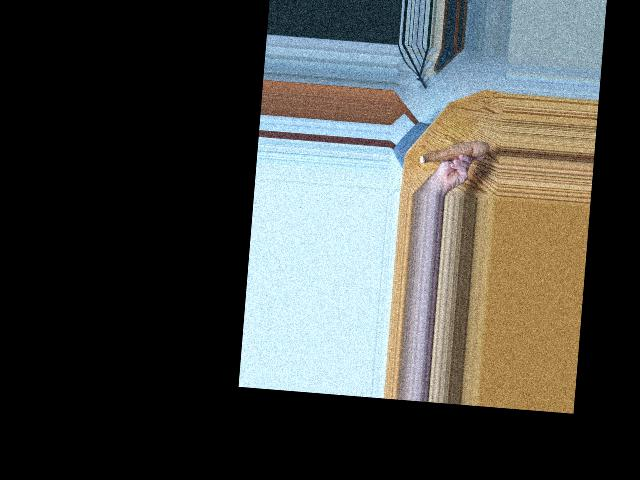sweet_potato: (417, 133, 488, 171)
